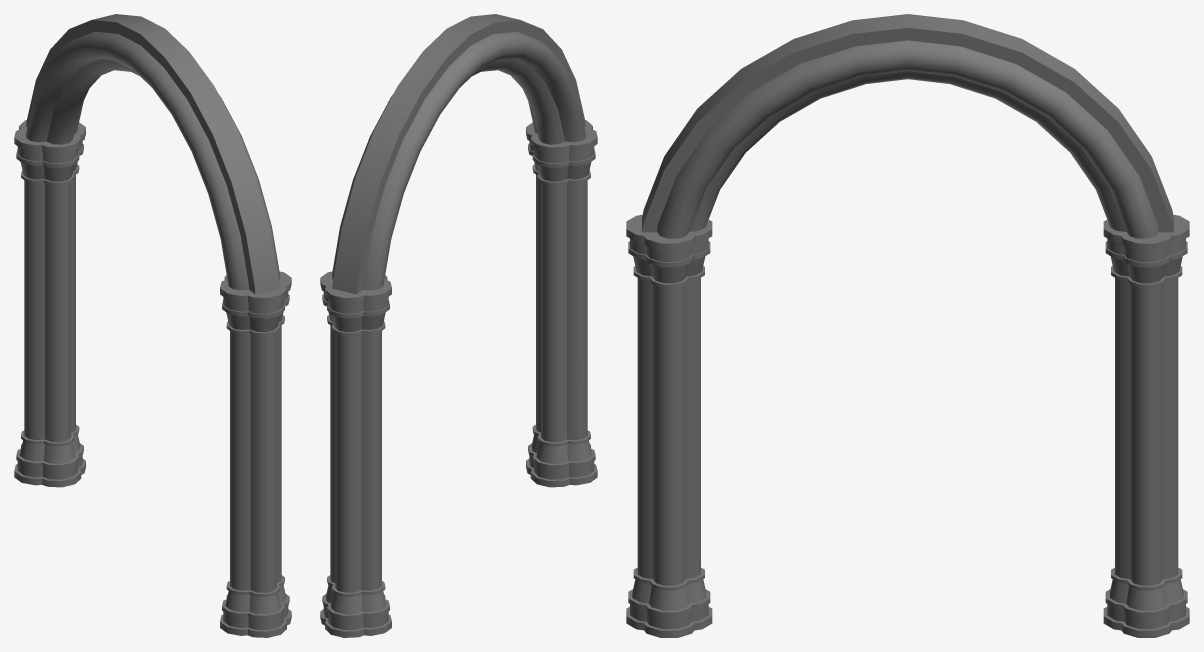
The model's file is doorframe_large.DAE.
The picture shows the model from 3 angles, left to right: view 1: azimuth 30°, elevation 25°; view 2: azimuth 150°, elevation 25°; view 3: azimuth 270°, elevation 25°; orthographic projection. The views are drawn at different scales.
Parts seen in each view (by area): view 1: NC_door_frame; view 2: NC_door_frame; view 3: NC_door_frame.
Part boxes in pixels (x1,y1,x2,y2): NC_door_frame: [14, 14, 291, 637]; NC_door_frame: [320, 14, 597, 637]; NC_door_frame: [626, 14, 1189, 637].
Bounding box in the file's own units: 0.7935 × 5.19 × 6.08.
